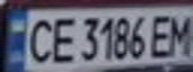1: (97, 14, 118, 61)
3: (75, 14, 100, 62)
6: (127, 12, 151, 60)
8: (112, 12, 133, 60)
C: (21, 14, 57, 65)
E: (45, 13, 78, 64), (148, 11, 175, 58)
M: (166, 10, 193, 56)
